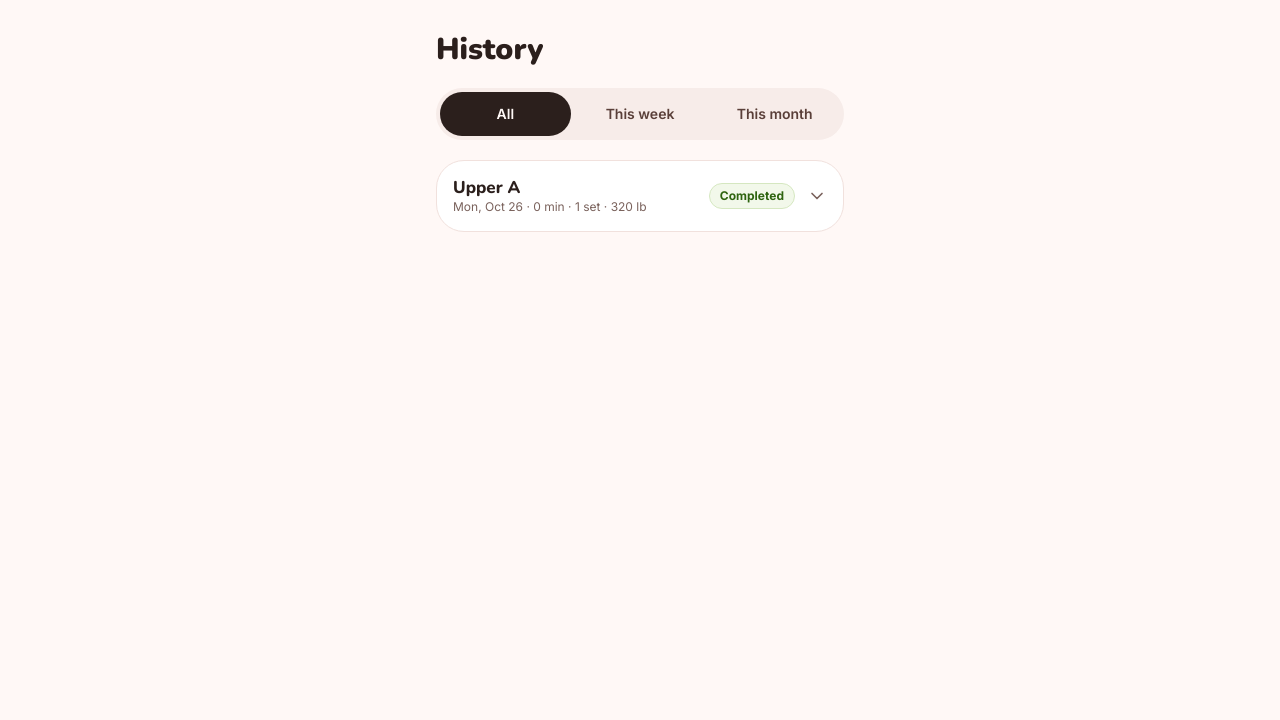
Test: History editing (writes unchanged) › marks the session partial when its last set is removed
Click the button "Upper A Mon, Oct 26 · 0 min · 1 set · 320 lb Completed": click(640, 196) [437, 161, 843, 231]
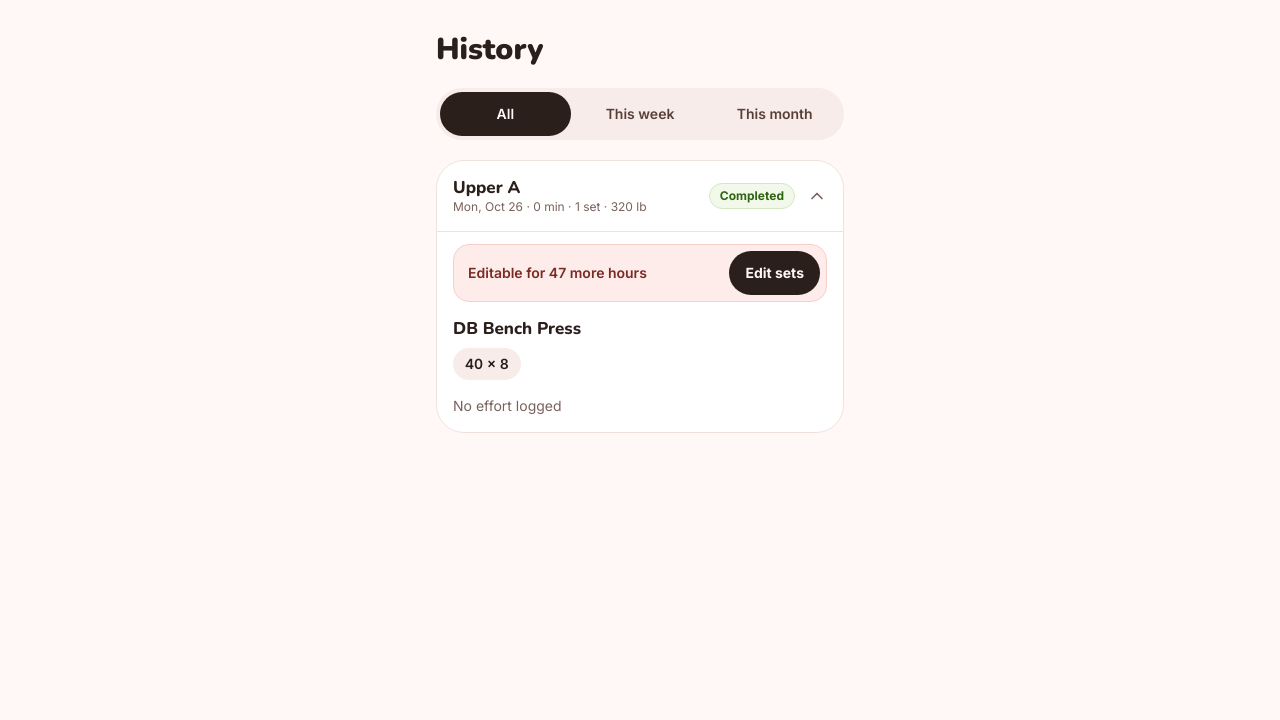
Click the button "Edit sets": click(775, 273) [729, 251, 820, 295]
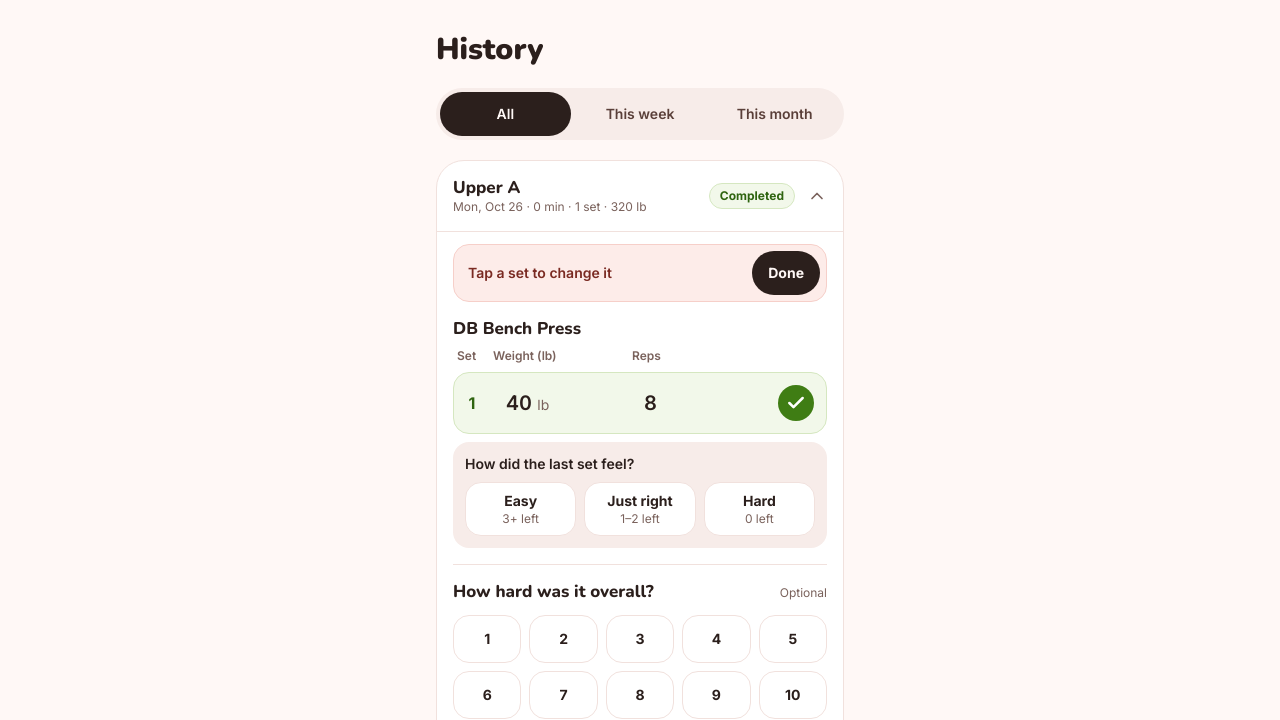
Click the button with aria-label "Set 1: 40 lb × 8. Edit": click(796, 403) [453, 372, 827, 434]
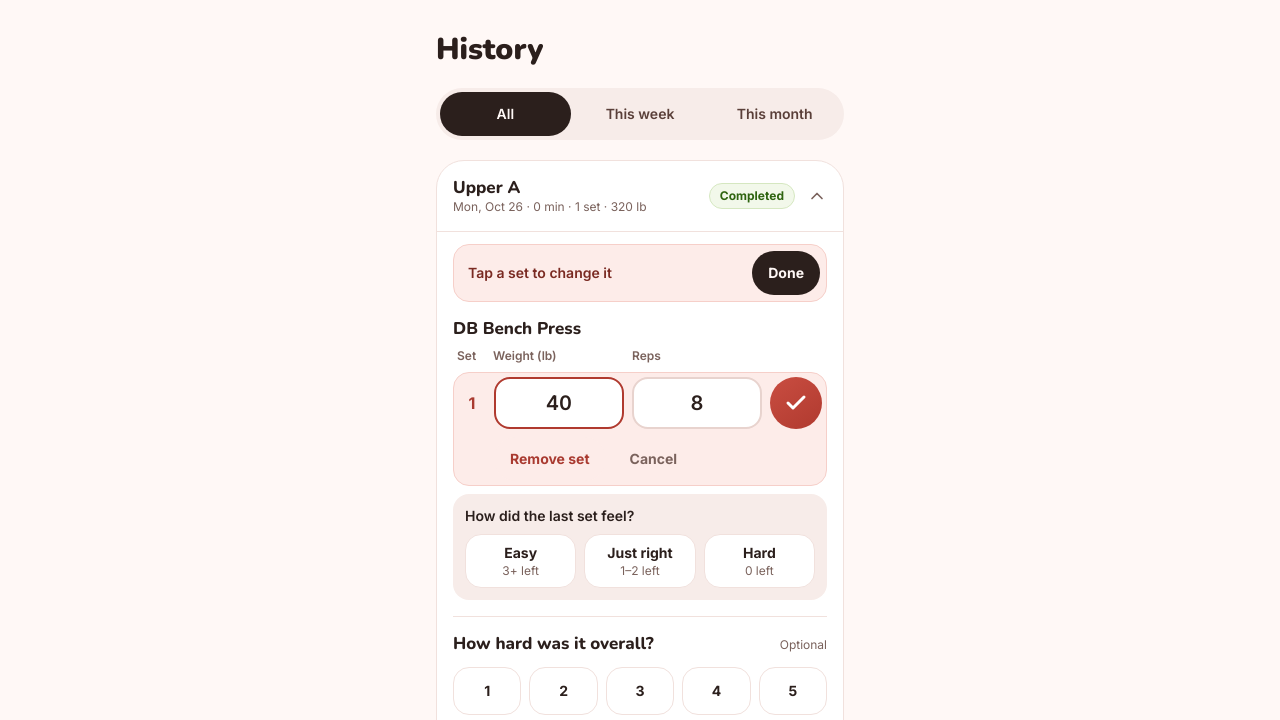
Click the button "Remove set": click(550, 459) [494, 437, 606, 481]
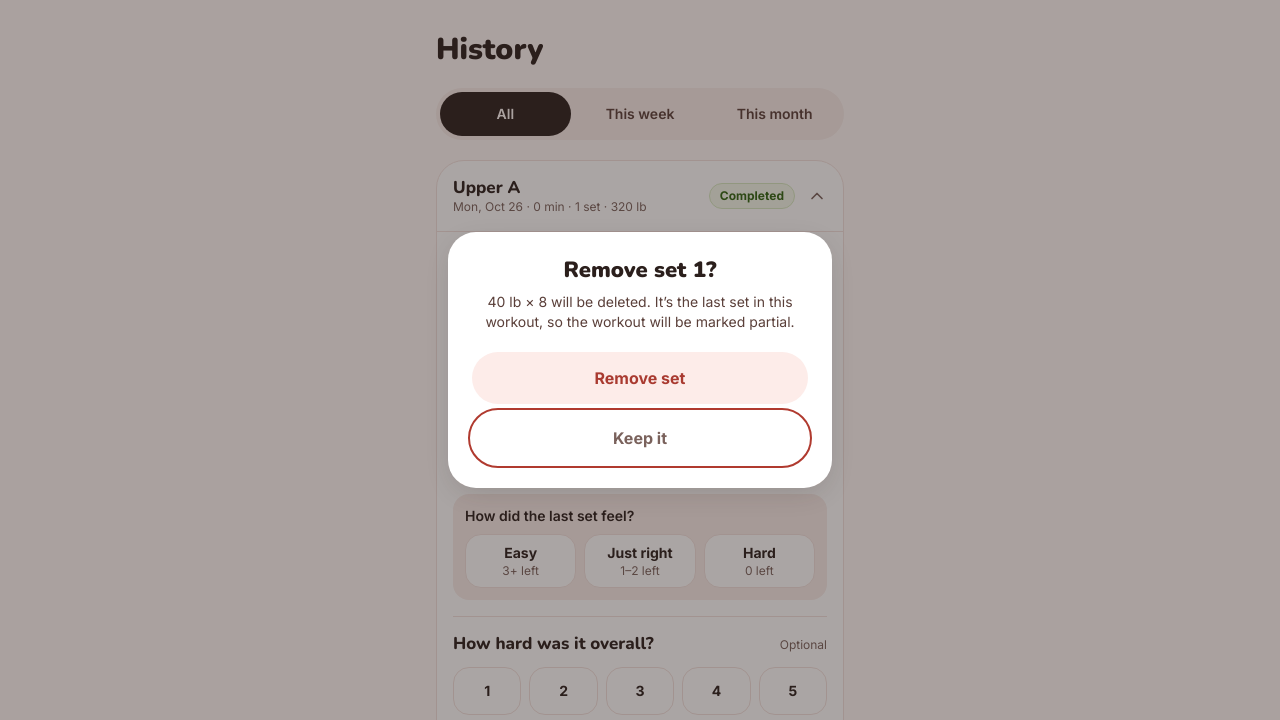
Expected: the dialog shows "the workout will be marked partial", [485, 293, 795, 330]
Click the button "Remove set": click(640, 378) [472, 352, 808, 404]
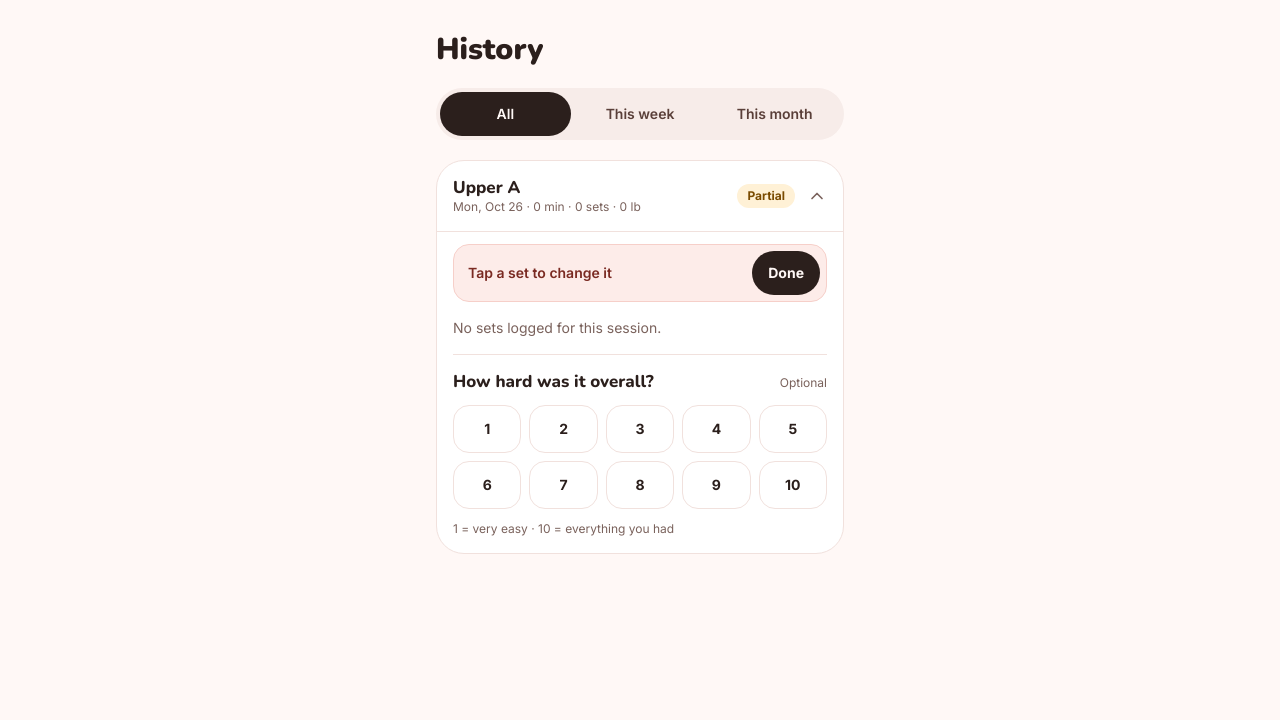
Expected: the element named "Upper A, Mon, Oct 26" shows "Partial", [437, 161, 843, 231]
Expected: the text "No sets logged for this session." is shown, [453, 319, 661, 336]
